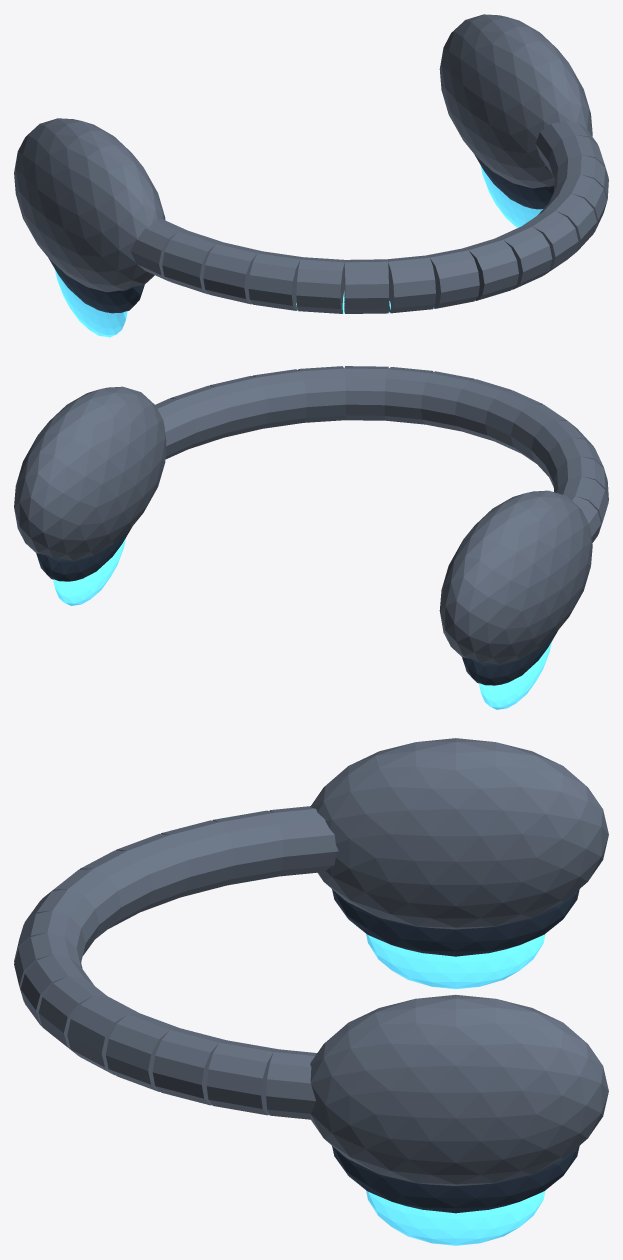
The model's file is techzone_headphones.glb.
3 renders of one model, top to bottom at view 1: azimuth 30°, elevation 25°; view 2: azimuth 150°, elevation 25°; view 3: azimuth 270°, elevation 25°, orthographic. The views are drawn at different scales.
Parts seen in each view (by area): view 1: earcup_outer_36, earcup_outer_40, headband_segment_5, headband_segment_6, headband_segment_8, headband_segment_4, headband_segment_7, headband_segment_9, headband_segment_3, headband_segment_10, headband_segment_11, headband_segment_2 (+10 smaller); view 2: earcup_outer_36, earcup_outer_40, headband_segment_13, headband_segment_14, headband_segment_12, headband_segment_15, headband_segment_11, headband_segment_16, headband_segment_10, headband_segment_9, headband_segment_8, headband_segment_17 (+10 smaller); view 3: earcup_outer_40, earcup_outer_36, earpad_37, earpad_41, earpad_accent_38, earpad_accent_42, headband_segment_16, headband_segment_15, headband_segment_3, headband_segment_2, headband_segment_14, headband_segment_4 (+10 smaller).
Boxes of the visible parts, x1,y1,x2,y2 form: earcup_outer_36: (14,118,165,292); earcup_outer_40: (439,14,592,188); headband_segment_5: (248,251,303,310); headband_segment_6: (296,257,344,313); headband_segment_8: (386,255,435,313); headband_segment_4: (203,242,261,304); headband_segment_7: (344,259,388,313); headband_segment_9: (426,248,479,308); headband_segment_3: (162,230,222,294); headband_segment_10: (462,238,518,300); headband_segment_11: (494,226,552,289); headband_segment_2: (130,219,187,281); earcup_outer_36: (439,490,592,664); earcup_outer_40: (14,386,166,560); headband_segment_13: (298,366,345,422); headband_segment_14: (252,369,306,428); headband_segment_12: (344,366,388,420); headband_segment_15: (209,376,268,437); headband_segment_11: (384,367,433,424); headband_segment_16: (170,385,231,449); headband_segment_10: (421,371,474,431); headband_segment_9: (455,379,511,441); headband_segment_8: (485,390,542,453); headband_segment_17: (155,398,196,459); earcup_outer_40: (310,994,608,1185); earcup_outer_36: (310,738,608,929); earpad_37: (332,889,579,956); earpad_41: (332,1146,579,1213); earpad_accent_38: (366,934,545,989); earpad_accent_42: (366,1190,545,1245); headband_segment_16: (206,1040,278,1115); headband_segment_15: (152,1028,226,1105); headband_segment_3: (212,810,283,885); headband_segment_2: (269,806,336,876); headband_segment_14: (105,1013,179,1091); headband_segment_4: (161,820,234,897).
Bounding box in the file's own units: 2.74 × 1.01 × 2.21.
